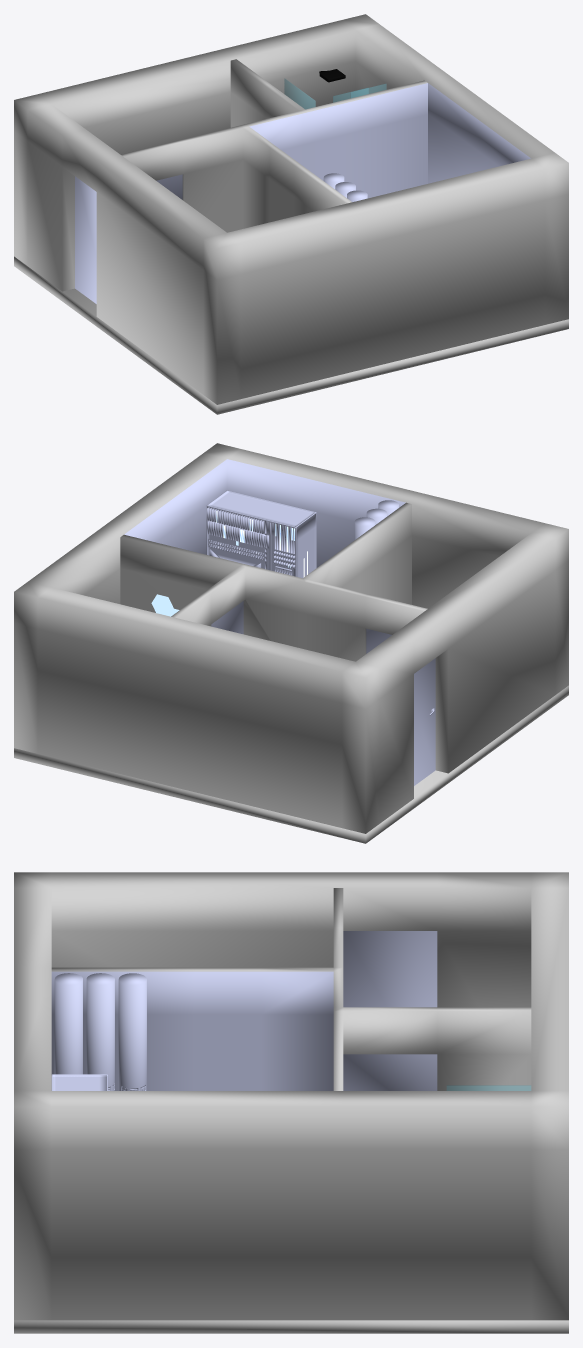
The model's file is modern_house_v1.glb.
The picture shows the model from 3 angles, top to bottom: view 1: azimuth 30°, elevation 25°; view 2: azimuth 150°, elevation 25°; view 3: azimuth 270°, elevation 25°; orthographic projection. The views are drawn at different scales.
Parts seen in each view (by area): view 1: House; view 2: House; view 3: House.
Boxes of the visible parts, left/top/right/bottom form: House: left=14, top=14, right=568, bottom=414; House: left=14, top=443, right=568, bottom=843; House: left=14, top=872, right=568, bottom=1333.
Size of the model in its own units: 5.9 by 2.66 by 5.9.
